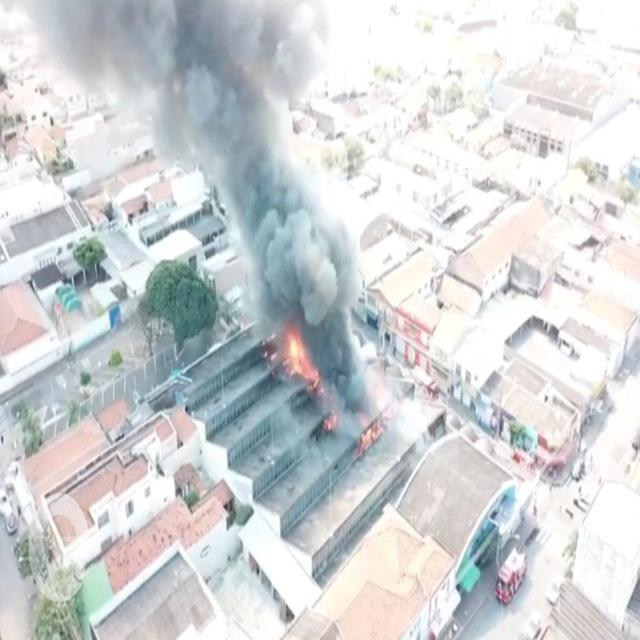Fire: (288, 336, 318, 377)
